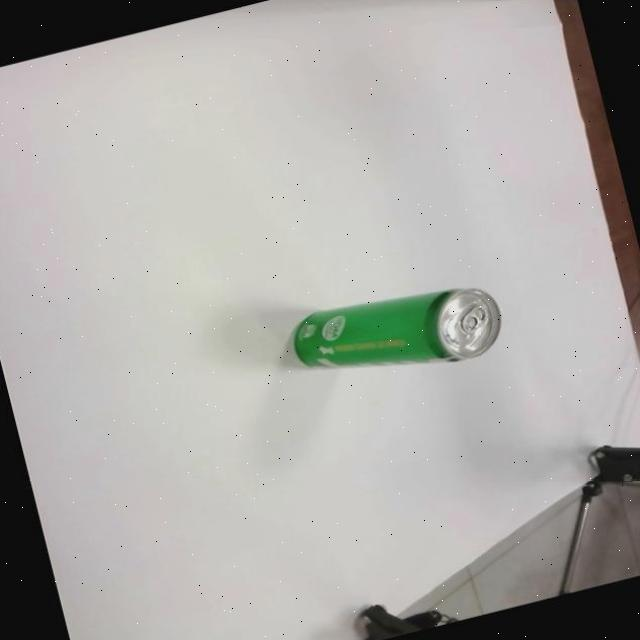debris: (284, 267, 510, 400)
